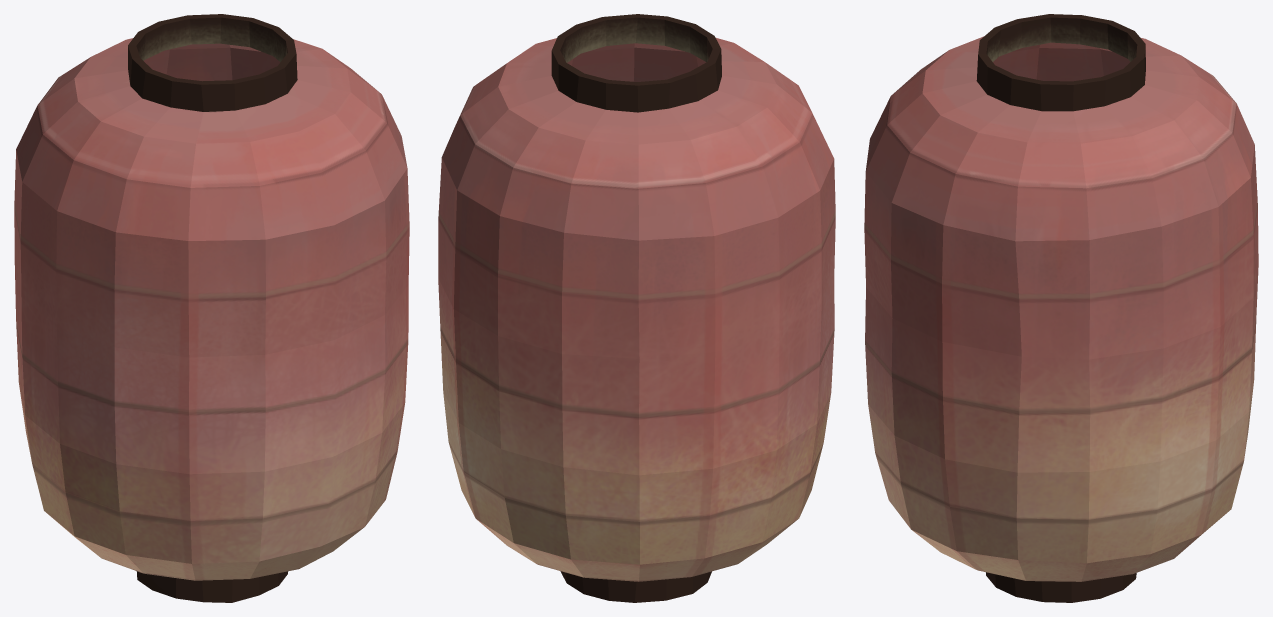
Rendered from lantern.dae.
3 renders of one model, left to right at view 1: azimuth 30°, elevation 25°; view 2: azimuth 150°, elevation 25°; view 3: azimuth 270°, elevation 25°, orthographic.
Parts seen in each view (by area): view 1: lantern1_polySurface2; view 2: lantern1_polySurface2; view 3: lantern1_polySurface2.
Part boxes in pixels (box(x1,y1,x2,y2)): lantern1_polySurface2: box(14, 14, 409, 602); lantern1_polySurface2: box(438, 14, 835, 602); lantern1_polySurface2: box(864, 14, 1258, 602).
Size of the model in its own units: 18.27 by 26.68 by 18.25.
